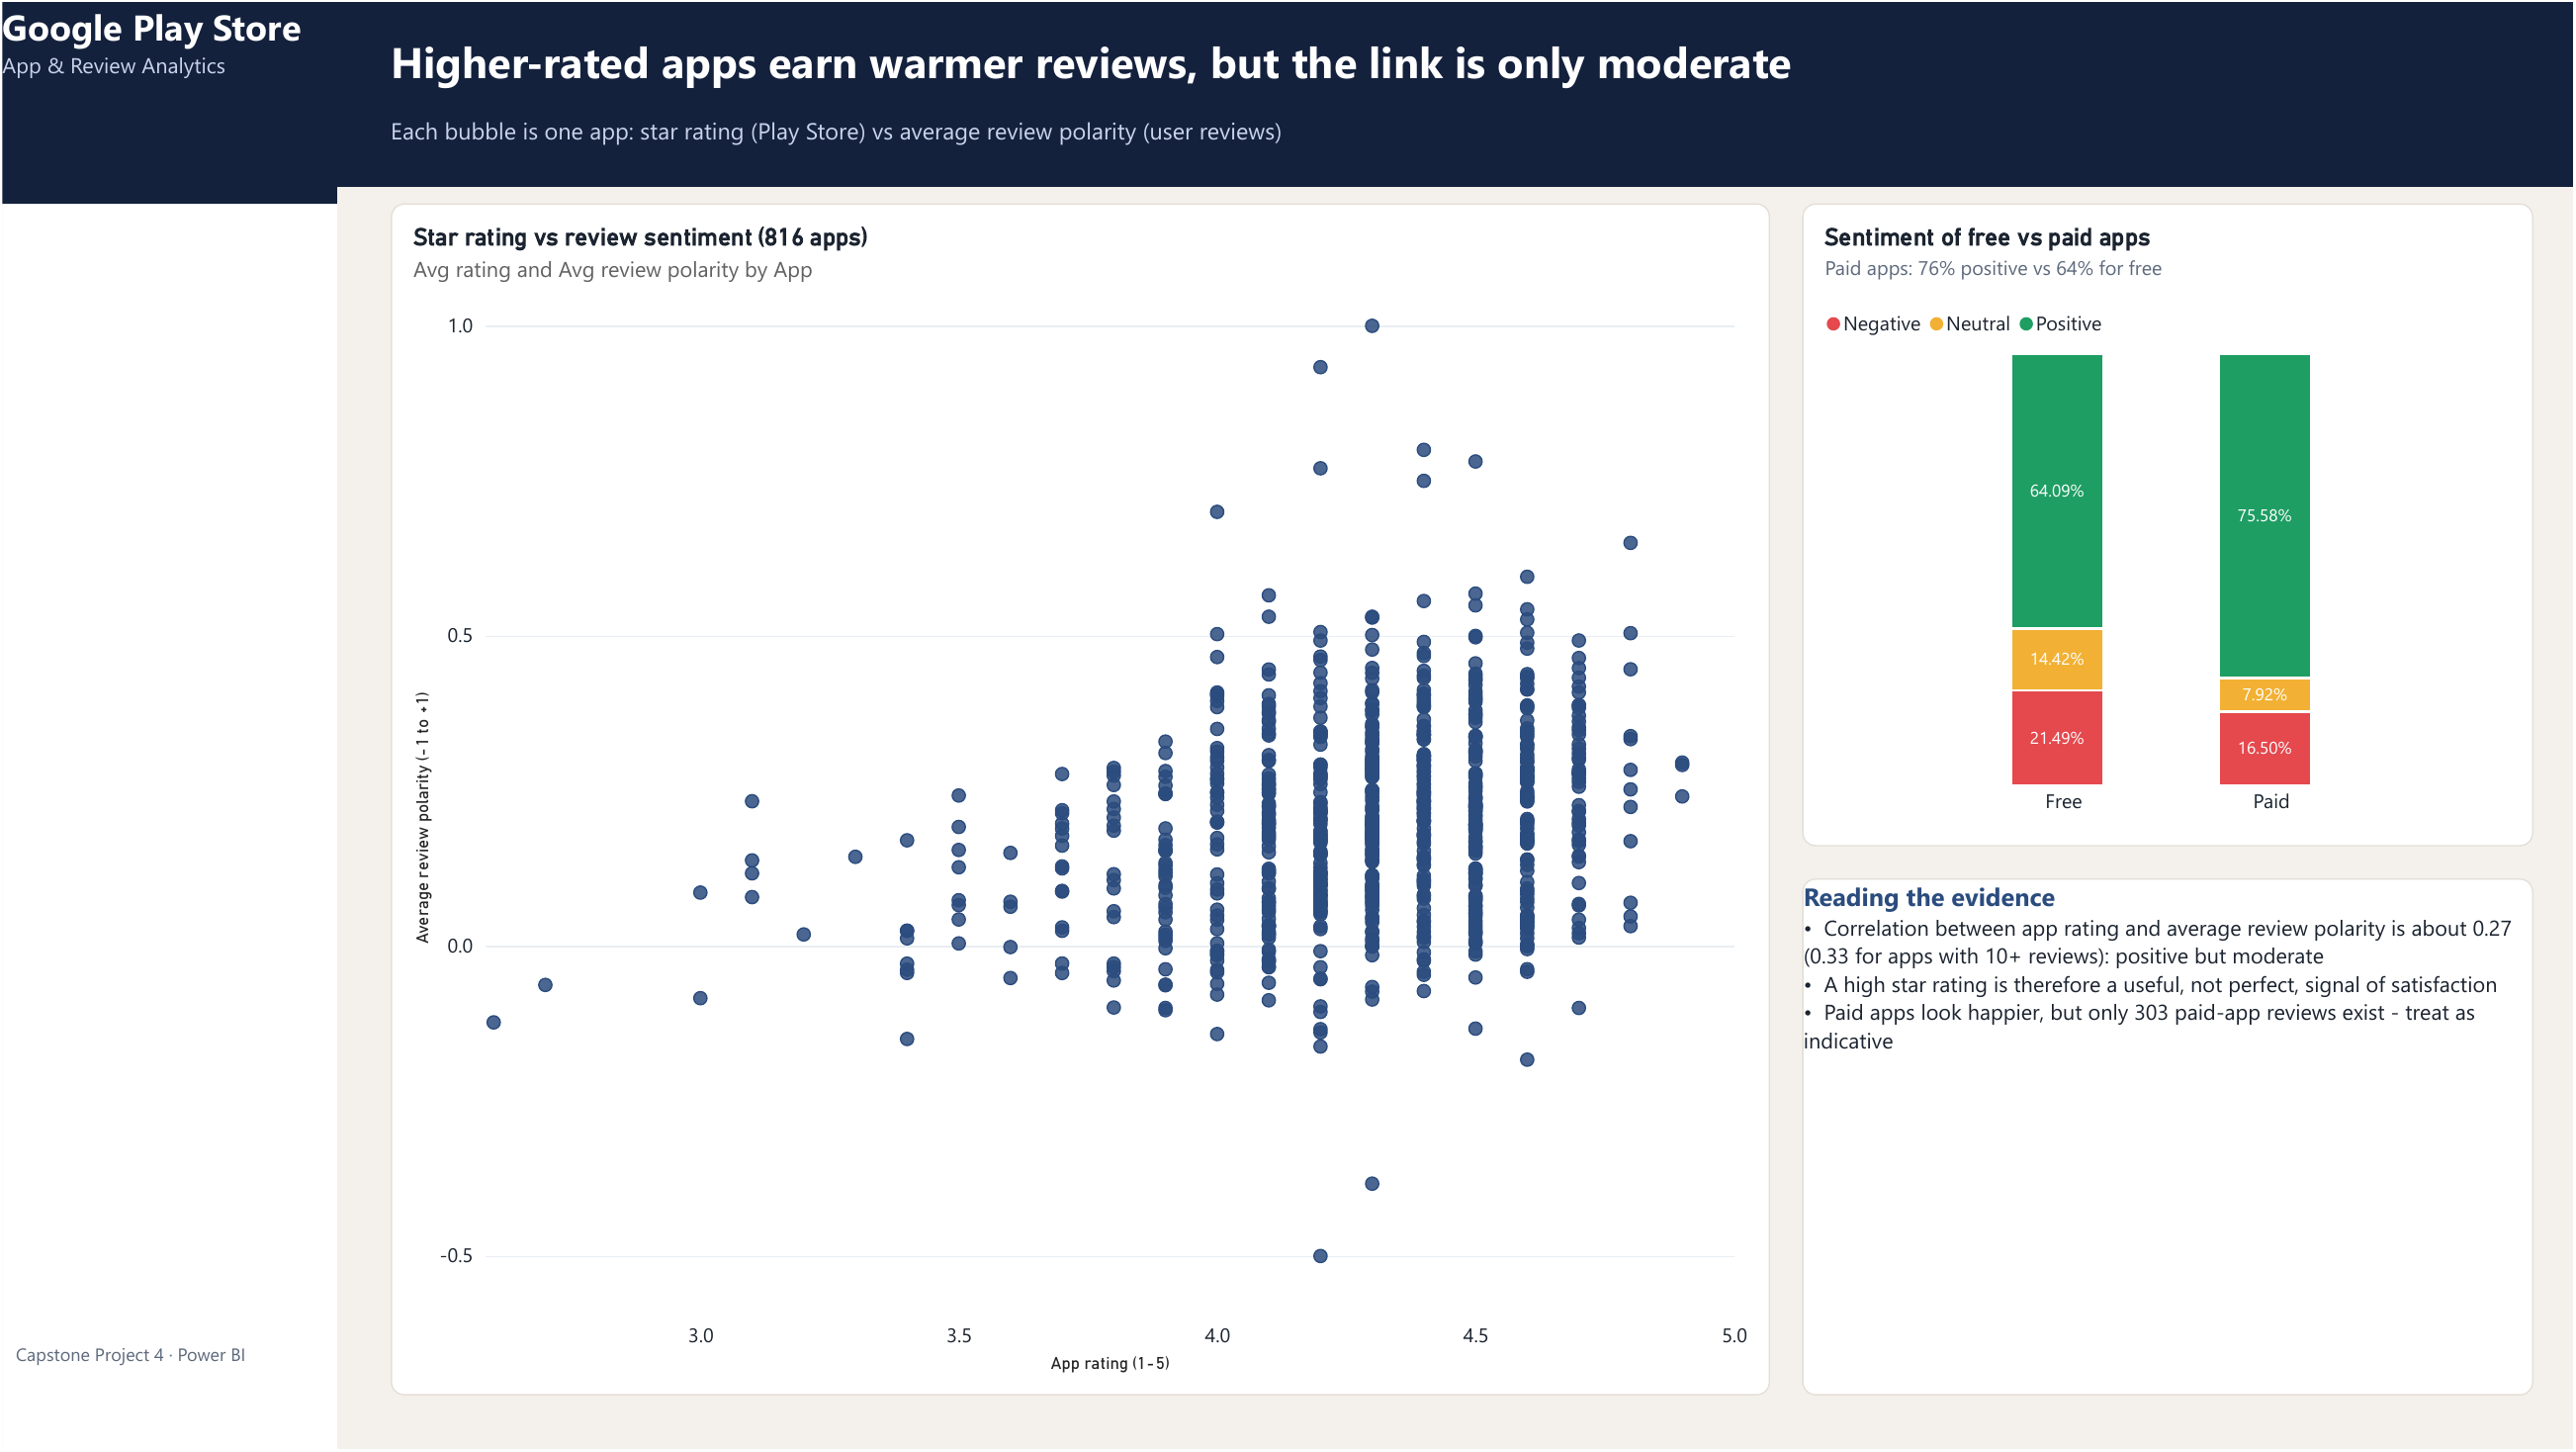

What the dashboard file says about the page in this screenshot:
{"tool":"powerbi","page":{"name":"Ratings vs Sentiment","canvas":[1920,1080],"ordinal":11},"visuals":[{"type":"textbox","box":[0,0,250,1080],"z":0},{"type":"textbox","box":[0,0,250,150],"z":1000},{"type":"pageNavigator","box":[10,170,230,800],"z":2000},{"type":"textbox","box":[10,1000,230,50],"z":3000},{"type":"textbox","box":[250,0,1670,138],"z":4000},{"type":"textbox","box":[290,22,1600,62],"z":5000},{"type":"textbox","box":[290,84,1600,40],"z":6000},{"type":"scatterChart","title":"Star rating vs review sentiment (816 apps)","fields":{"Category":["Play_Store_Cleaned.App"],"X":["Avg(Play_Store_Cleaned.Rating)"],"Y":["Avg(User_Reviews_Cleaned.Sentiment_Polarity)"]},"box":[290,150,1030,890],"z":7000},{"type":"hundredPercentStackedColumnChart","title":"Sentiment of free vs paid apps","fields":{"Category":["Play_Store_Cleaned.Type"],"Series":["User_Reviews_Cleaned.Sentiment"],"Y":["CountNonNull(User_Reviews_Cleaned.Translated_Review)"]},"box":[1344,150,546,480],"z":8000},{"type":"textbox","box":[1344,654,546,386],"z":9000}]}

Visuals, with their boxes in screenshot pixels (x1, y1, x2, y2), scaled from the page's 1920x1080 canvas onto the 2576x1452 screenshot:
textbox: BBox(0, 0, 335, 1451)
textbox: BBox(0, 0, 335, 202)
pageNavigator: BBox(14, 228, 322, 1304)
textbox: BBox(14, 1344, 322, 1411)
textbox: BBox(335, 0, 2575, 186)
textbox: BBox(389, 30, 2535, 113)
textbox: BBox(389, 113, 2535, 167)
"Star rating vs review sentiment (816 apps)" scatterChart: BBox(389, 202, 1771, 1399)
"Sentiment of free vs paid apps" hundredPercentStackedColumnChart: BBox(1804, 202, 2535, 847)
textbox: BBox(1804, 879, 2535, 1399)
